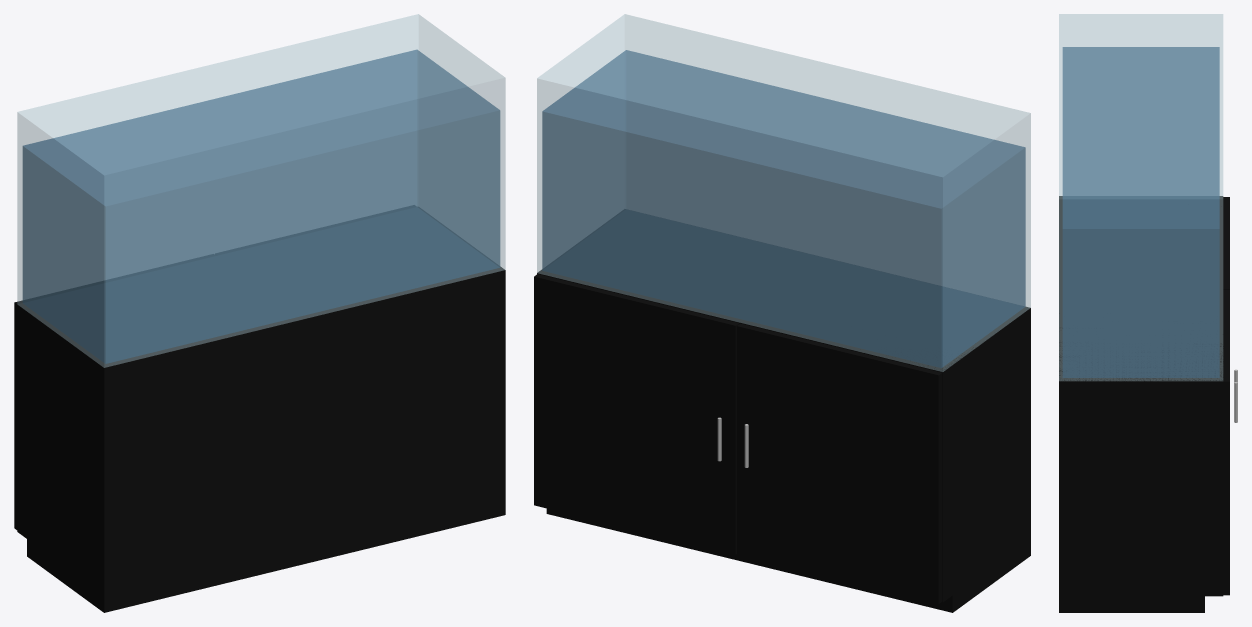
The model's file is home.utility.aquarium.glb.
3 renders of one model, left to right at view 1: azimuth 30°, elevation 25°; view 2: azimuth 150°, elevation 25°; view 3: azimuth 270°, elevation 25°, orthographic. The views are drawn at different scales.
Parts seen in each view (by area): view 1: main__glass, main__plastic_black, main__water; view 2: main__glass, main__plastic_black, main__water; view 3: main__glass, main__water, main__plastic_black.
Boxes of the visible parts, bbox=[...] form: main__glass: bbox=[17, 14, 505, 367]; main__plastic_black: bbox=[14, 266, 505, 612]; main__water: bbox=[22, 49, 500, 363]; main__glass: bbox=[537, 14, 1030, 371]; main__plastic_black: bbox=[534, 269, 1030, 612]; main__water: bbox=[542, 50, 1025, 367]; main__glass: bbox=[1059, 14, 1222, 380]; main__water: bbox=[1062, 47, 1219, 377]; main__plastic_black: bbox=[1059, 196, 1229, 612].
Bounding box in the file's own units: 1.2 × 1.25 × 0.49.
